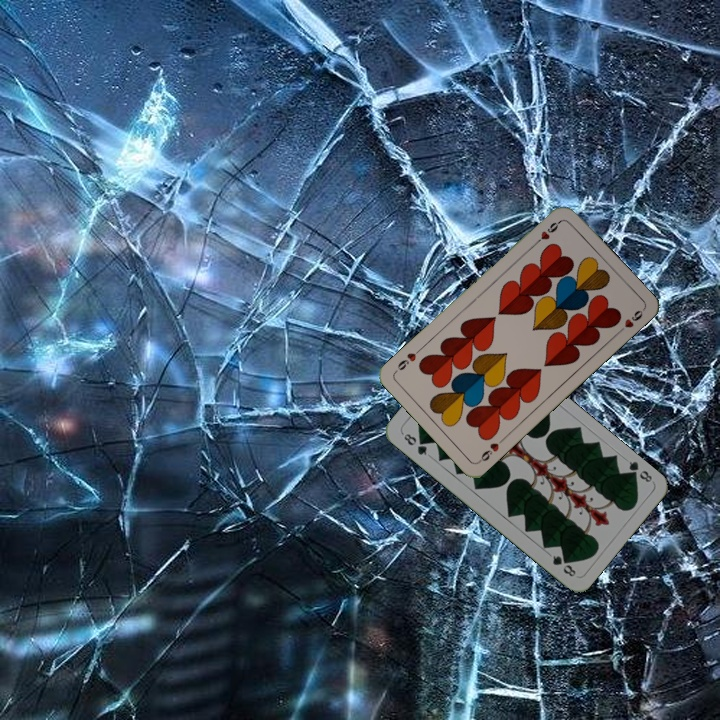G8: (399, 428, 430, 458), (624, 457, 655, 485)
H9: (474, 434, 507, 465), (530, 217, 563, 247)
